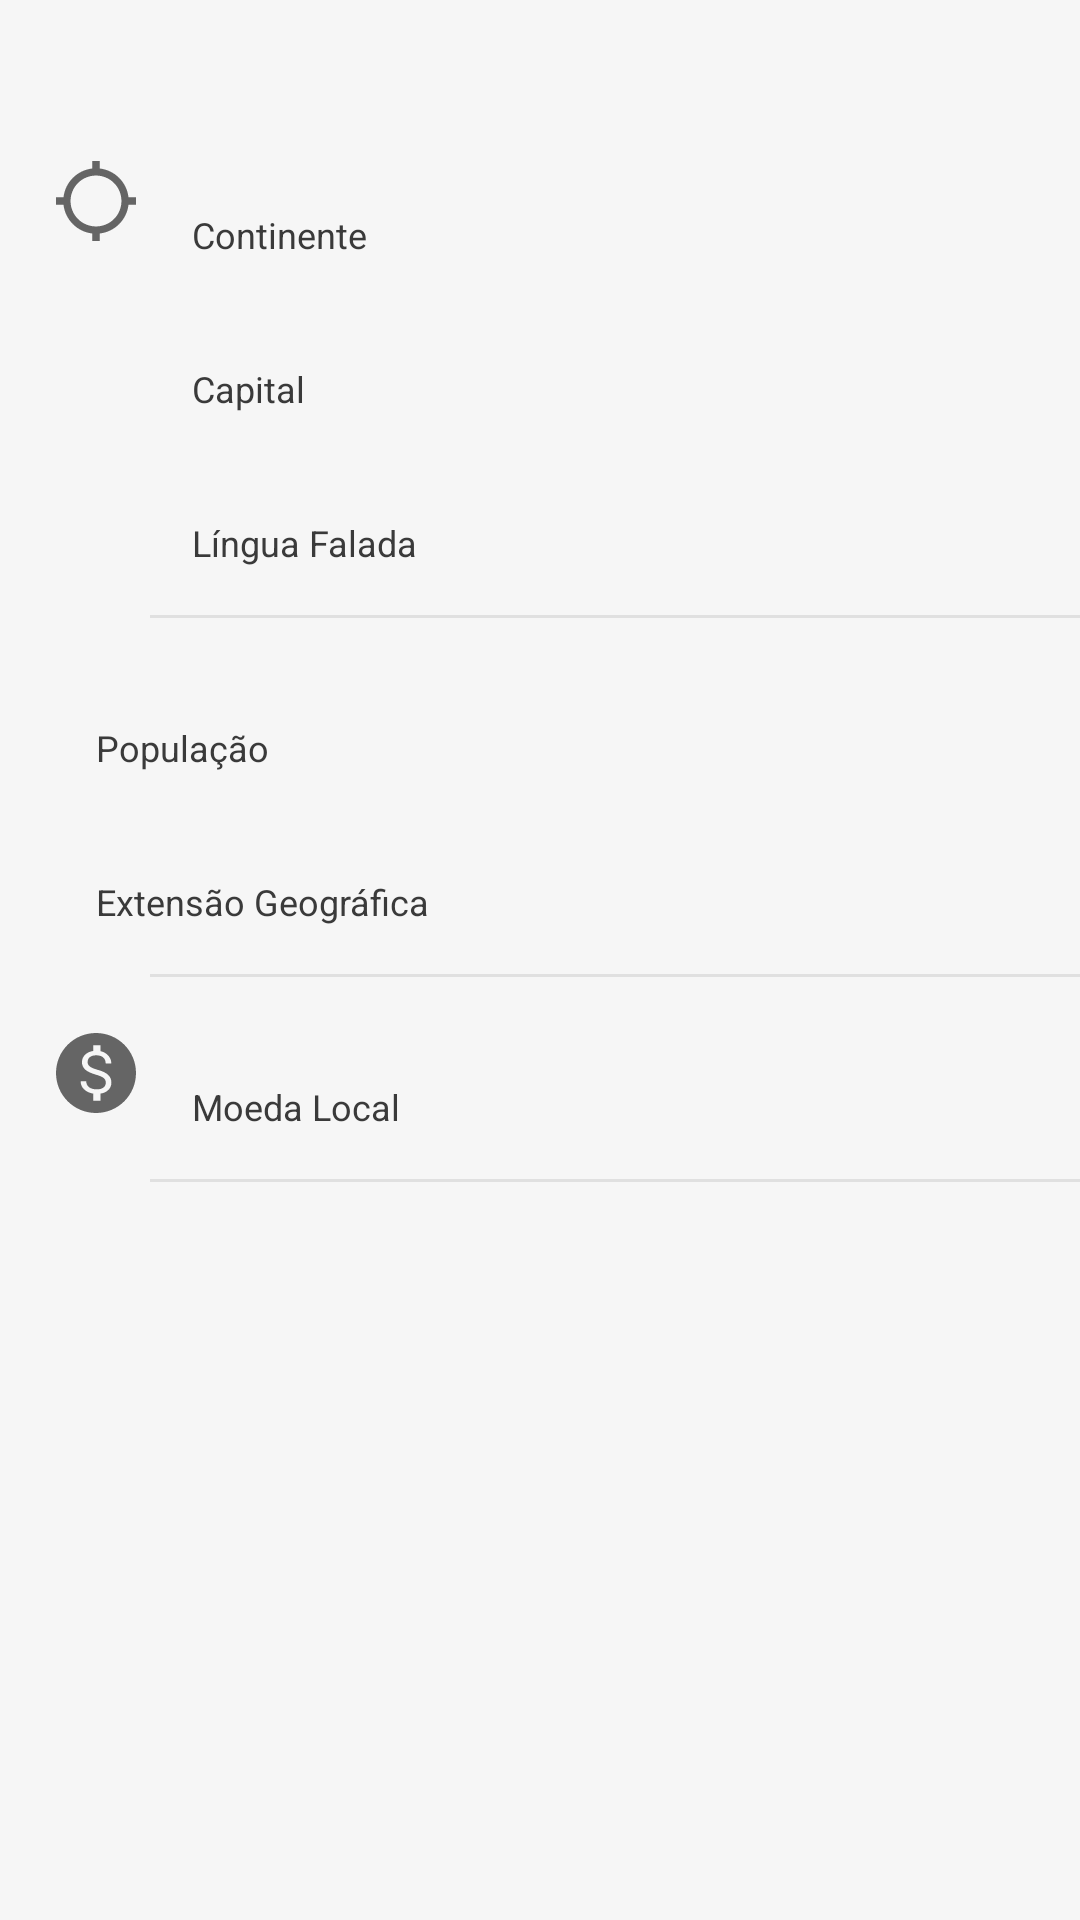

Icon click points for this 1080 x 1920 phone screenshot, format point (x, y):
location: point (96, 201)
money: point (96, 1073)
